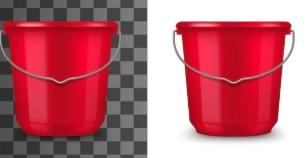SEAU: (0, 3, 148, 158), (168, 0, 303, 157)
